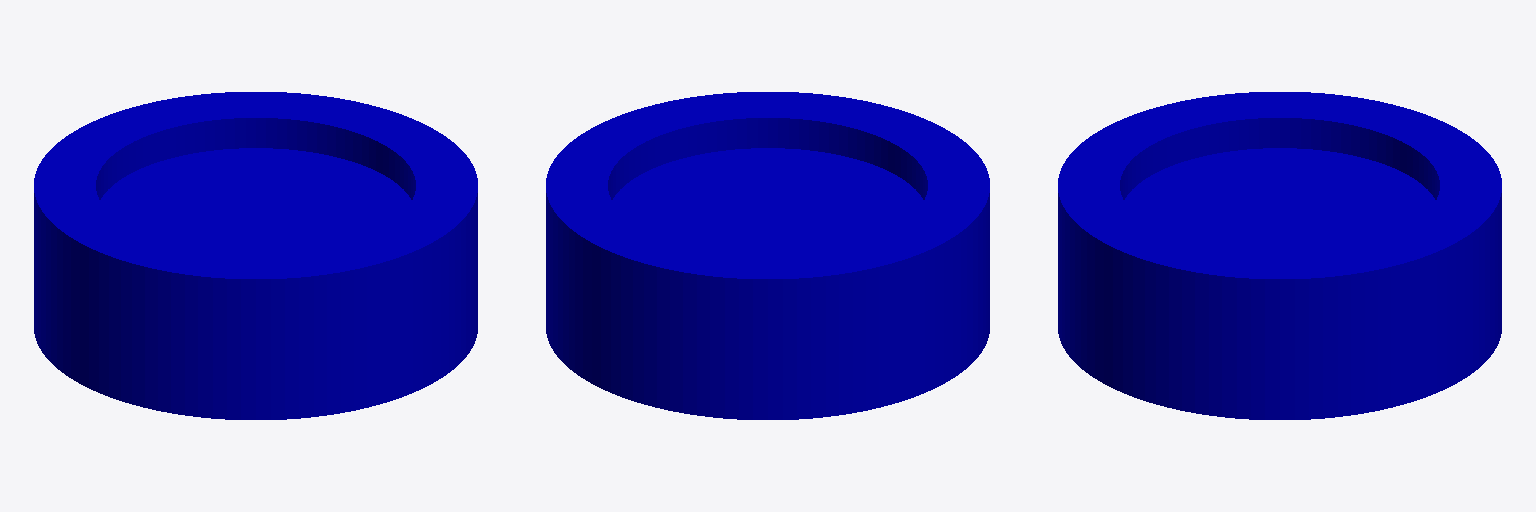
Rendered from connect4blue.obj.
3 views of the same model, side by side, from view 1: azimuth 30°, elevation 25°; view 2: azimuth 150°, elevation 25°; view 3: azimuth 270°, elevation 25° (orthographic).
Visible parts, largest first — view 1: 4gewinnt.002; view 2: 4gewinnt.002; view 3: 4gewinnt.002.
Part boxes in pixels (left/top/right/bottom): 4gewinnt.002: left=34, top=92, right=477, bottom=419; 4gewinnt.002: left=546, top=92, right=989, bottom=419; 4gewinnt.002: left=1058, top=92, right=1501, bottom=419.
Size of the model in its own units: 0.69 by 0.2415 by 0.69.